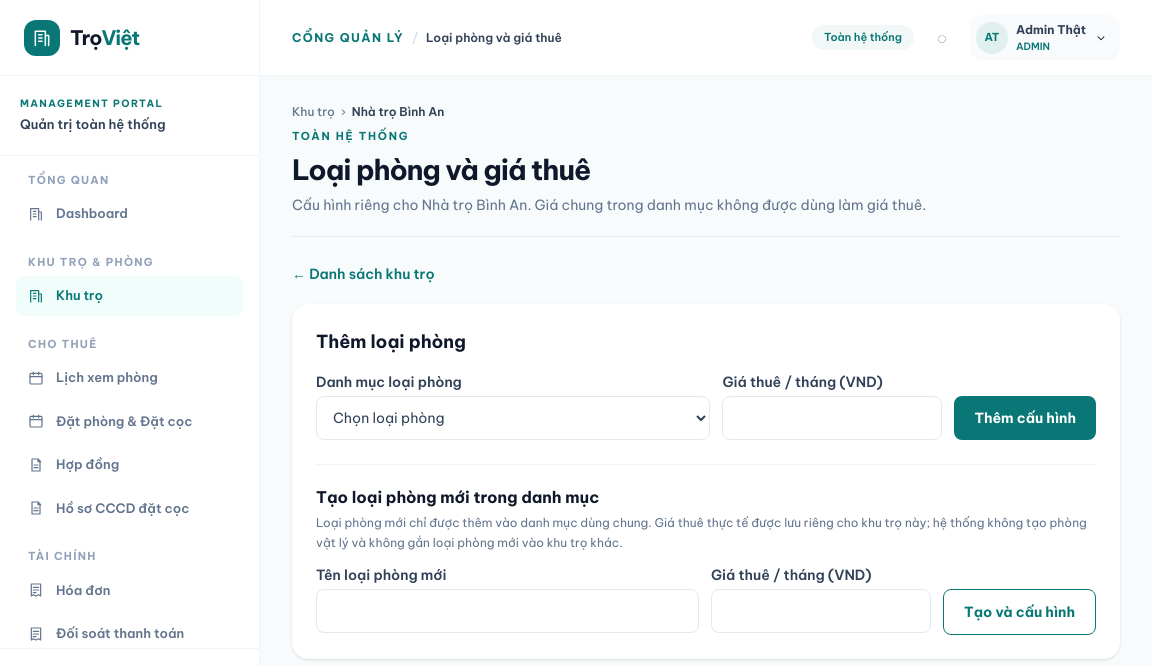
Test: management property room types › reports partial success when the catalog type is created but configuration fails
Type "Phòng Deluxe" into the field labelled "Tên loại phòng mới" at [508, 610], box [316,588,699,632]
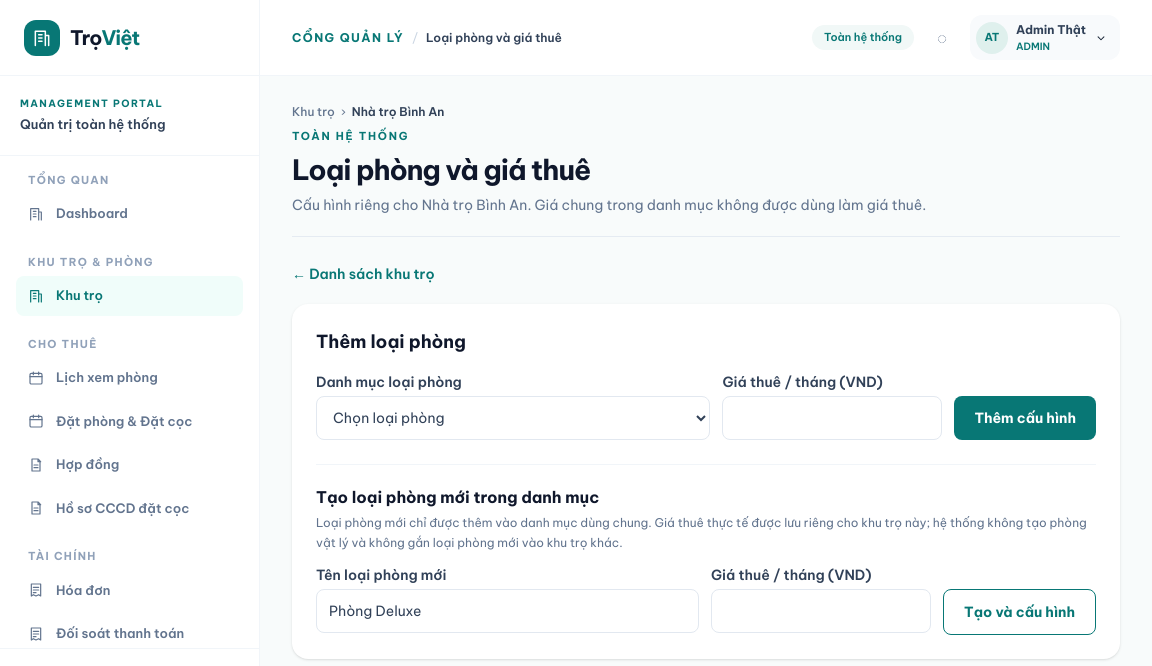
Type "4500000" into the number field named "Giá thuê loại phòng mới" at [821, 610], box [711,588,931,632]
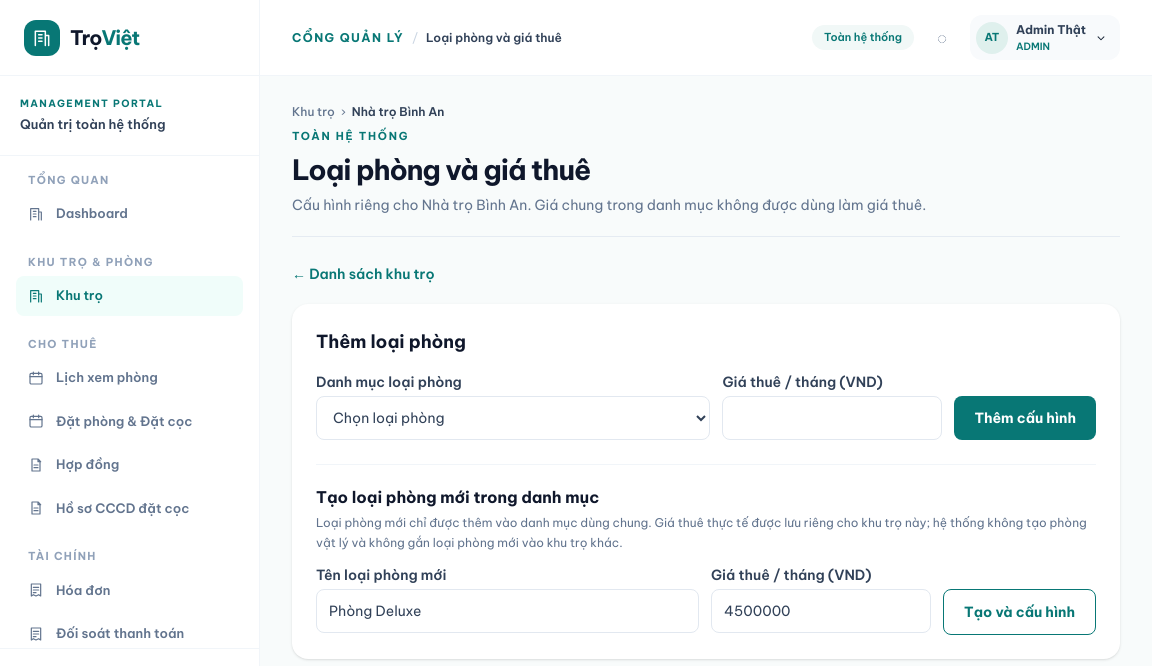
Click the button "Tạo và cấu hình" at [1020, 612], box [943,588,1096,634]
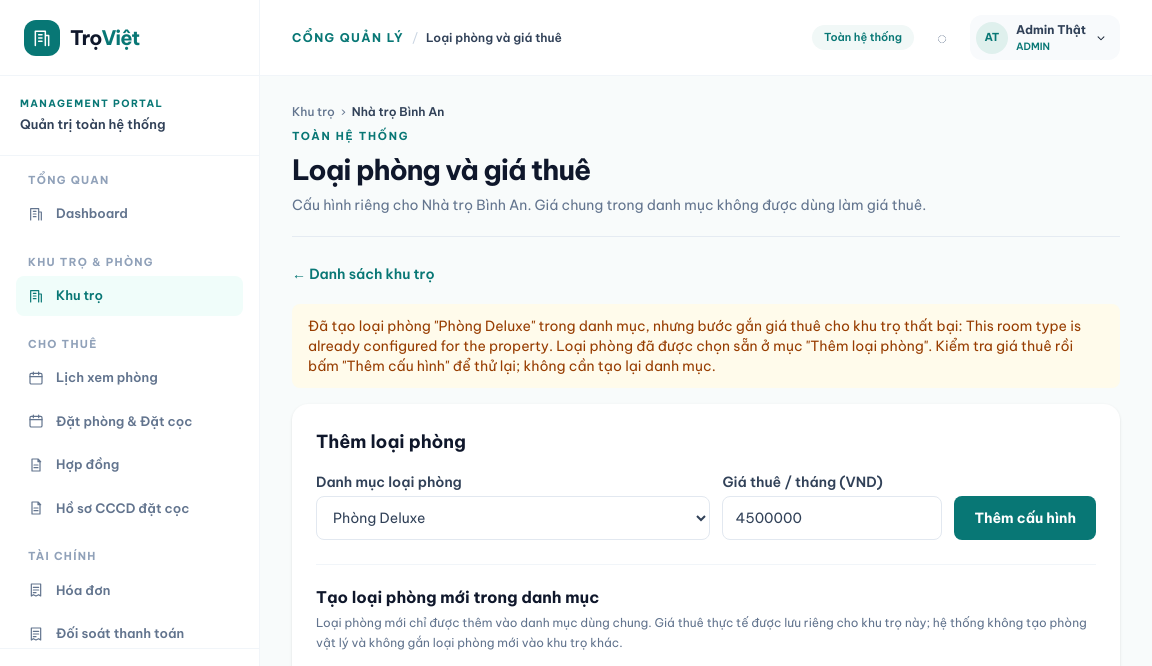
Expected: the text "Đã tạo loại phòng \"Phòng Deluxe\" trong danh mục, nhưng bước gắn giá thuê cho khu trọ thất bại" is shown, [308,316,1081,374]
